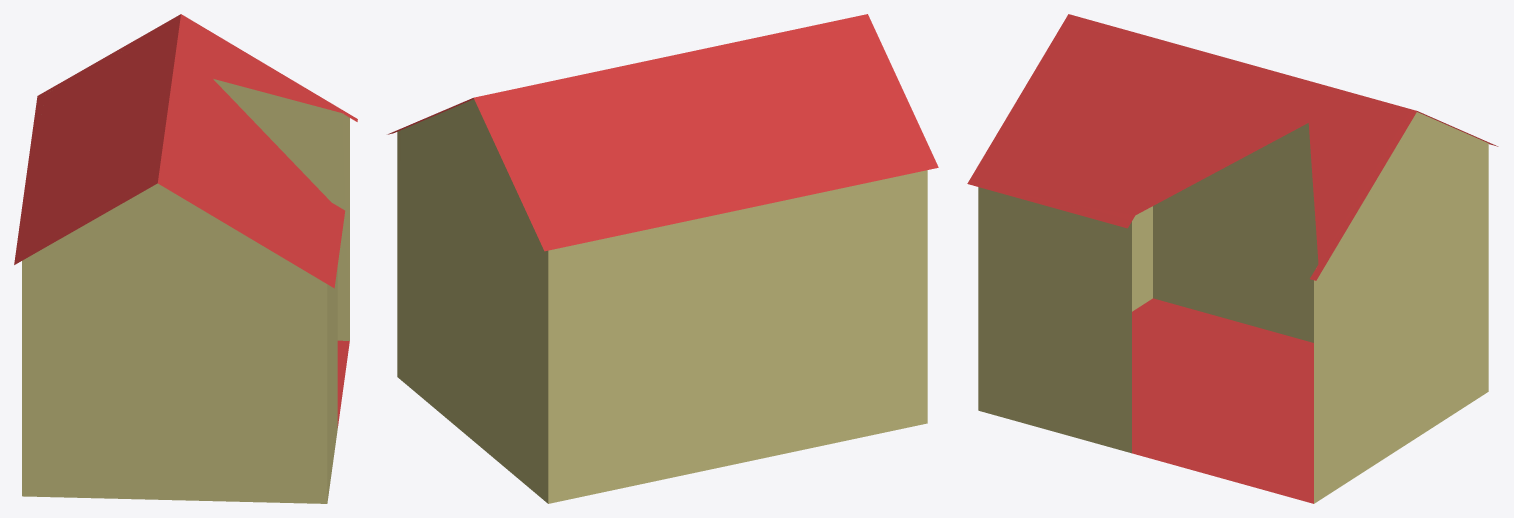
The picture shows the model from 3 angles, left to right: view 1: azimuth 30°, elevation 25°; view 2: azimuth 150°, elevation 25°; view 3: azimuth 270°, elevation 25°; orthographic projection. The views are drawn at different scales.
Size of the model in its own units: 16.05 by 16.8 by 11.58.
